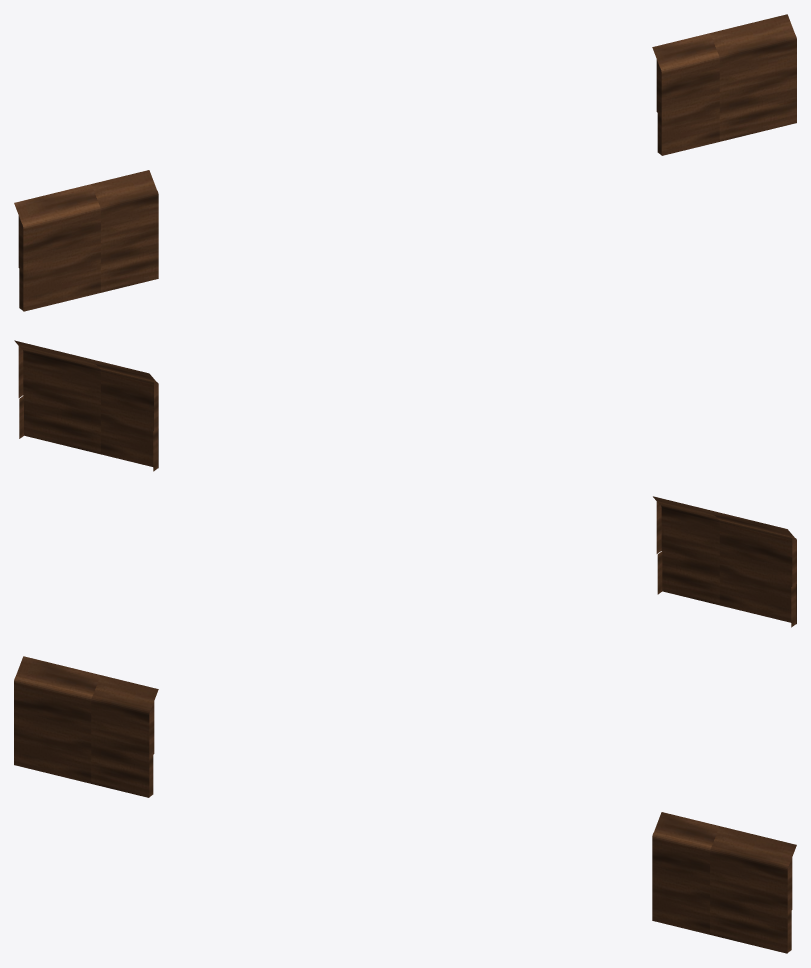
The model's file is skirting-doorway.glb.
The picture shows the model from 3 angles, top to bottom: view 1: azimuth 30°, elevation 25°; view 2: azimuth 150°, elevation 25°; view 3: azimuth 330°, elevation 25°; orthographic projection.
Parts seen in each view (by area): view 1: SkirtingDoorway; view 2: SkirtingDoorway; view 3: SkirtingDoorway.
Boxes of the visible parts, bbox=[...] form: SkirtingDoorway: bbox=[14, 14, 796, 311]; SkirtingDoorway: bbox=[14, 340, 796, 627]; SkirtingDoorway: bbox=[14, 656, 796, 953].
Size of the model in its own units: 2 by 0.252 by 0.042.
1 material, 1 textured.
